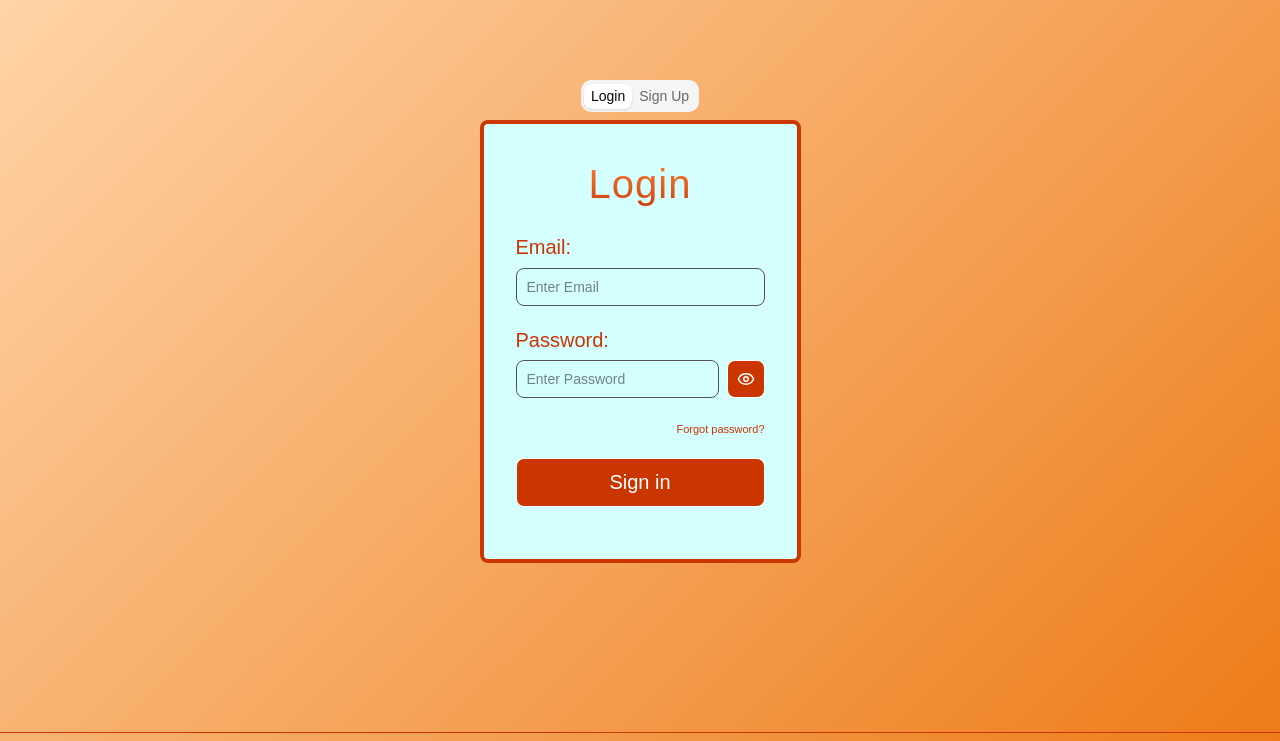
it: Login Page Testing › Registration Form Testing › Testing a confirmed password that is meant to fail
This screenshot has width=1280, height=741.
Click the tab "Sign Up" at (664, 96), box [632,84,696,108]
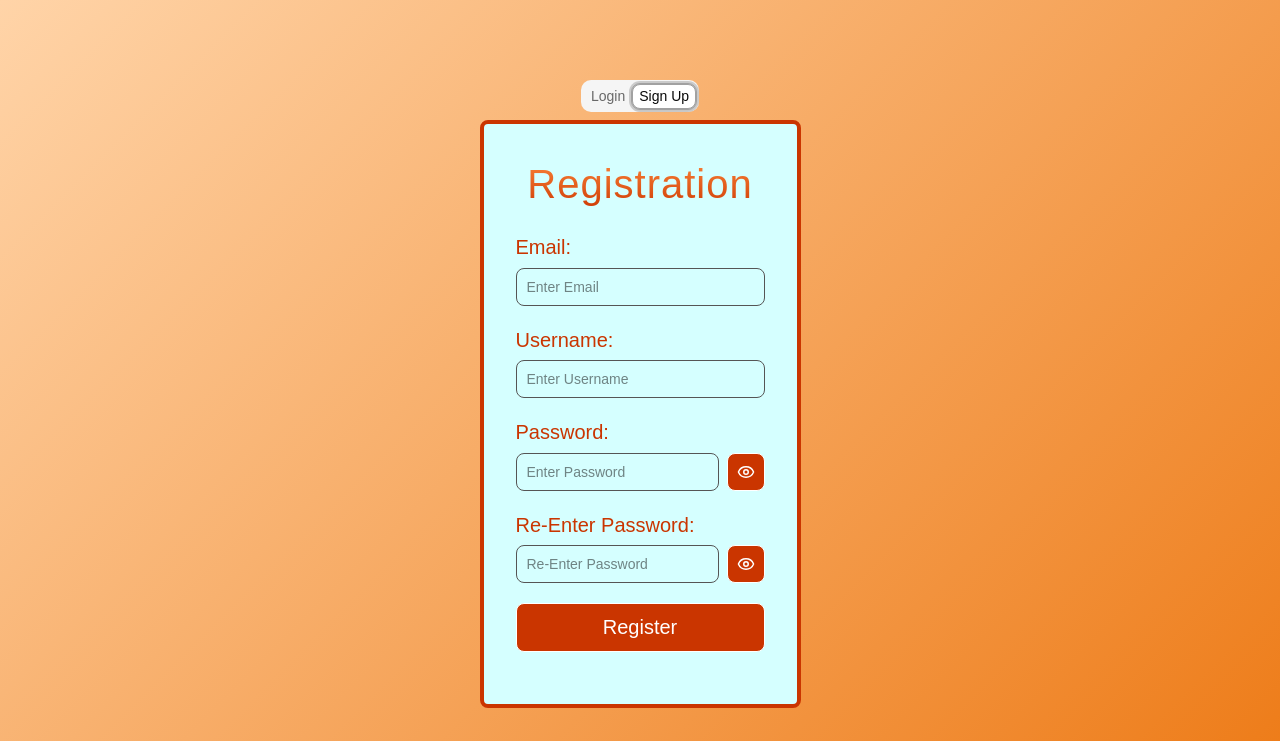
Type "Password_123" into the password field labelled "Password:" at (617, 472), box [516,453,718,491]
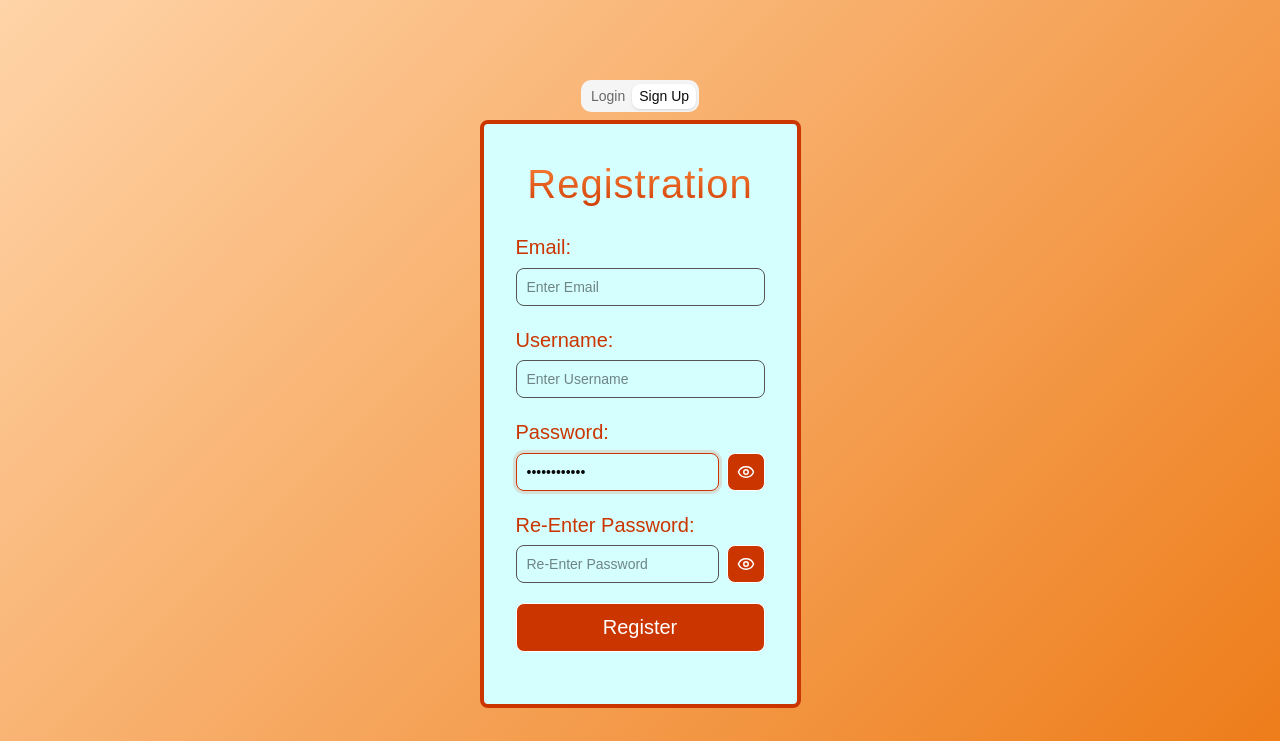
Type "Password123" into the password field labelled "Re-Enter Password:" at (617, 564), box [516,545,718,583]
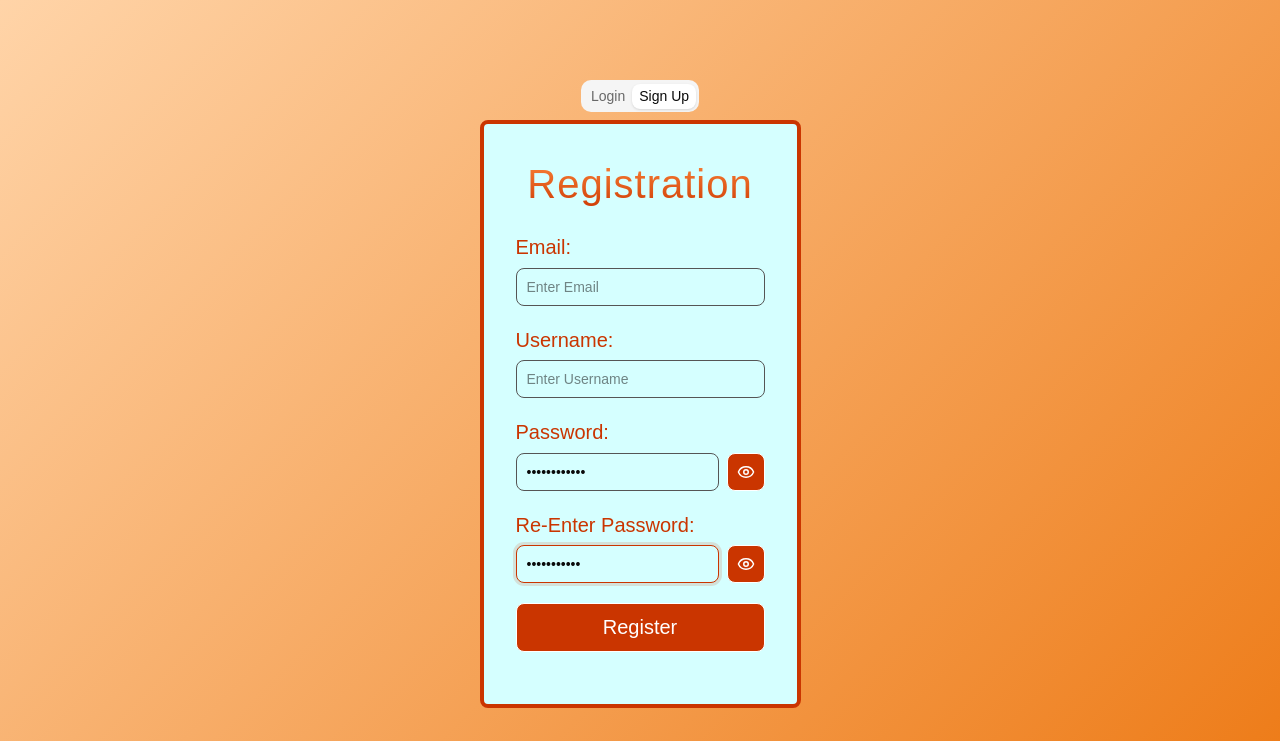
Click the button titled "subBtn" at (640, 628), box [516,603,764,652]
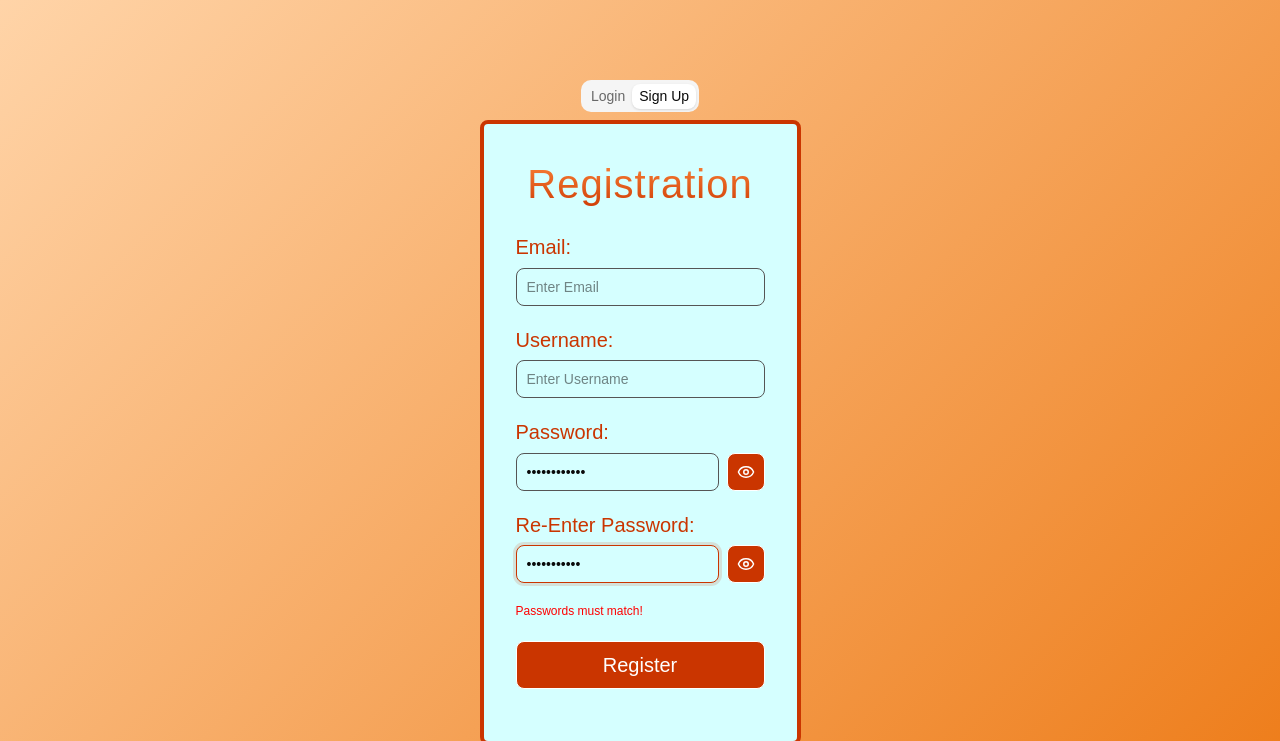
expect the text titled "errorMsgPass2" reads "Passwords must match!": met, box [516,604,643,618]
